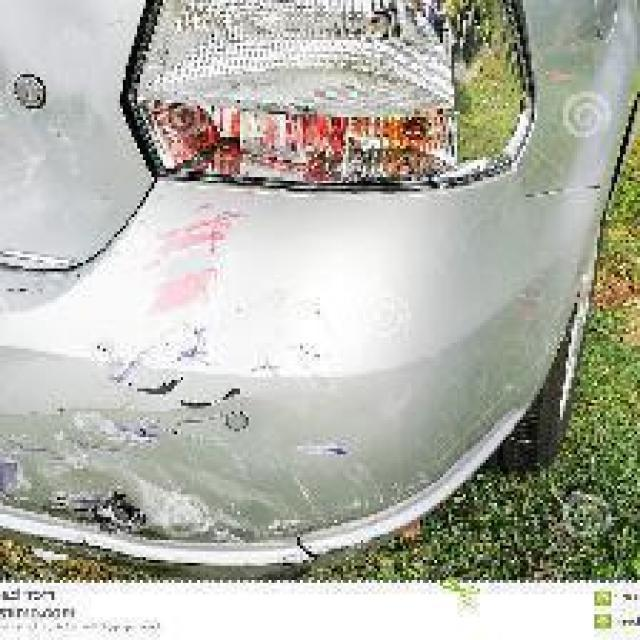damaged: (0, 205, 334, 571)
